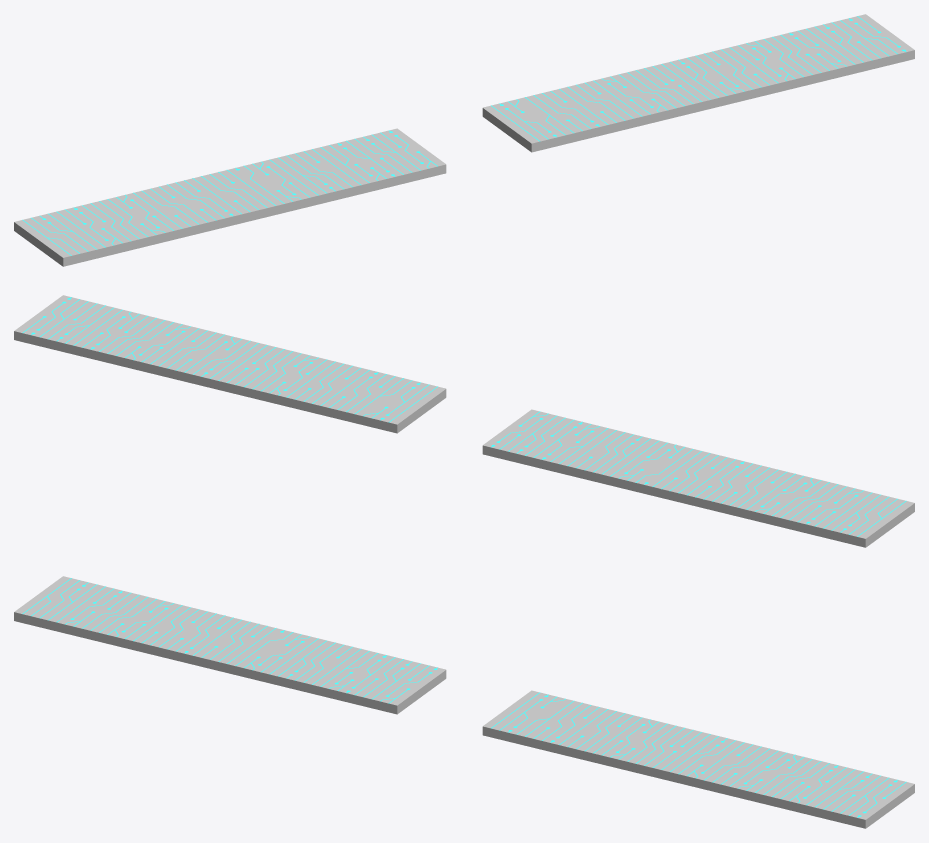
Rendered from floor_metallic2.glb.
3 renders of one model, top to bottom at view 1: azimuth 30°, elevation 25°; view 2: azimuth 150°, elevation 25°; view 3: azimuth 330°, elevation 25°, orthographic.
Visible parts, largest first — view 1: Cube.001, NewLineStart.017; view 2: Cube.001, NewLineStart.017; view 3: Cube.001, NewLineStart.017.
Part boxes in pixels (<box>): Cube.001: <box>14,14,914,266</box>; NewLineStart.017: <box>22,16,906,255</box>; Cube.001: <box>14,295,914,547</box>; NewLineStart.017: <box>22,297,906,536</box>; Cube.001: <box>14,576,914,828</box>; NewLineStart.017: <box>22,578,906,817</box>.
Size of the model in its own units: 200 by 2.05 by 20.08.
